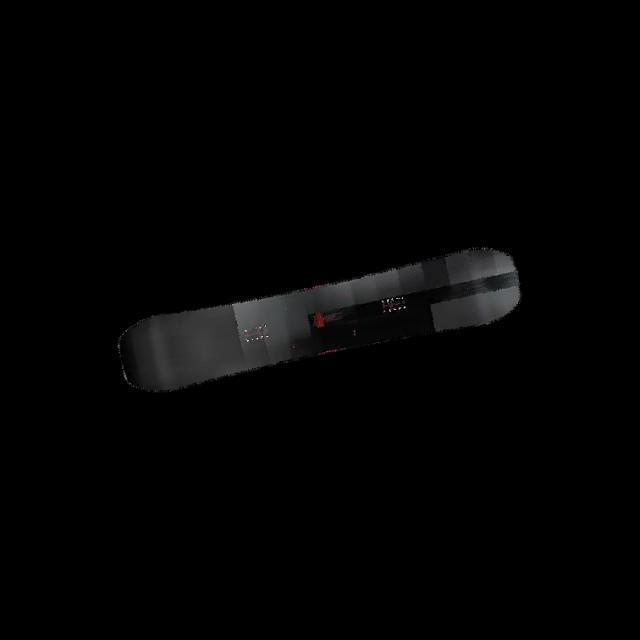Snowboard: (116, 245, 521, 394)
